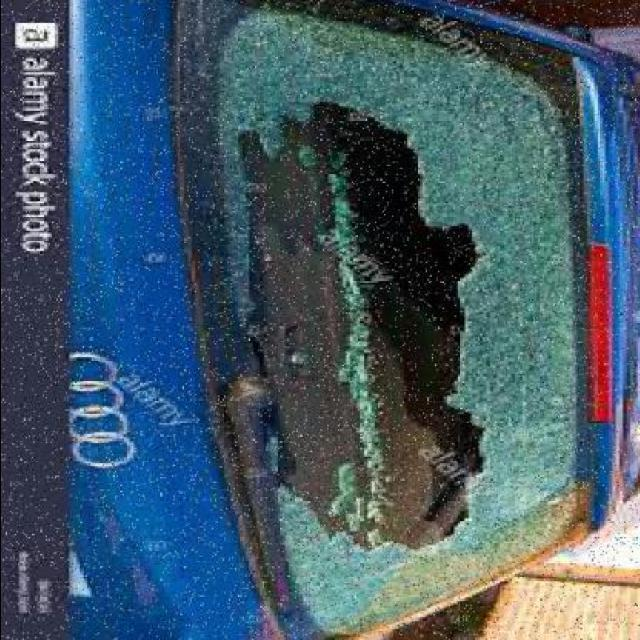Rear-windscreen-Damage: (155, 0, 619, 638)
